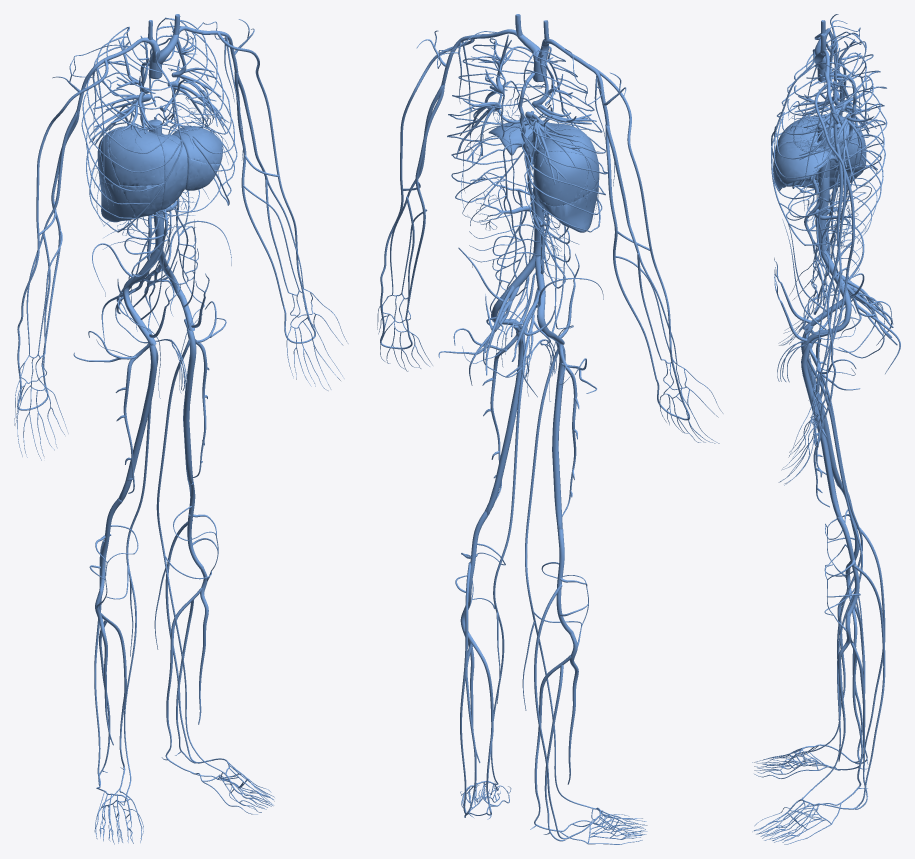
File: veias.glb
3 renders of one model, left to right at view 1: azimuth 30°, elevation 25°; view 2: azimuth 150°, elevation 25°; view 3: azimuth 270°, elevation 25°, orthographic. The views are drawn at different scales.
Parts seen in each view (by area): view 1: FJ2824, FJ1994, FJ1985, FJ2820, FJ2103, FJ2818, FJ2145, FJ2144, FJ2272, FJ2102, FJ2821, FJ2409 (+6 smaller); view 2: FJ1858, FJ1994, FJ1985, FJ2145, FJ2103, FJ2144, FJ2102, FJ2409, FJ2824, FJ2272, FJ2220, FJ2823 (+5 smaller); view 3: FJ1985, FJ2818, FJ2103, FJ1994, FJ2102, FJ2220, FJ2145, FJ2121, FJ2218, FJ2144, FJ2176, FJ2183 (+18 smaller).
Part boxes in pixels (x1,y1,x2,y2): FJ2824: (108, 126, 164, 185); FJ1994: (81, 27, 182, 231); FJ1985: (151, 17, 237, 204); FJ2820: (157, 134, 187, 209); FJ2103: (154, 338, 222, 771); FJ2818: (172, 126, 222, 163); FJ2145: (124, 345, 158, 795); FJ2144: (118, 344, 156, 500); FJ2272: (17, 59, 108, 378); FJ2102: (183, 329, 196, 483); FJ2821: (120, 184, 164, 217); FJ2409: (99, 178, 134, 222); FJ1858: (536, 151, 599, 206); FJ1994: (520, 50, 607, 244); FJ1985: (447, 38, 551, 217); FJ2145: (522, 349, 593, 808); FJ2103: (491, 341, 526, 784); FJ2144: (552, 342, 565, 531); FJ2102: (485, 329, 523, 515); FJ2409: (539, 178, 599, 232); FJ2824: (536, 125, 599, 169); FJ2272: (589, 64, 680, 393); FJ2220: (380, 39, 474, 321); FJ2823: (533, 152, 598, 205); FJ1985: (772, 52, 887, 248); FJ2818: (774, 141, 837, 184); FJ2103: (802, 356, 863, 799); FJ1994: (773, 31, 886, 199); FJ2102: (801, 343, 841, 517); FJ2220: (814, 83, 846, 418); FJ2145: (802, 330, 863, 752); FJ2121: (842, 565, 885, 809); FJ2218: (824, 143, 854, 399); FJ2144: (801, 326, 841, 486); FJ2176: (841, 527, 885, 762); FJ2183: (837, 615, 850, 761).
Size of the model in its own units: 0.6487 by 1.46 by 0.2536.
